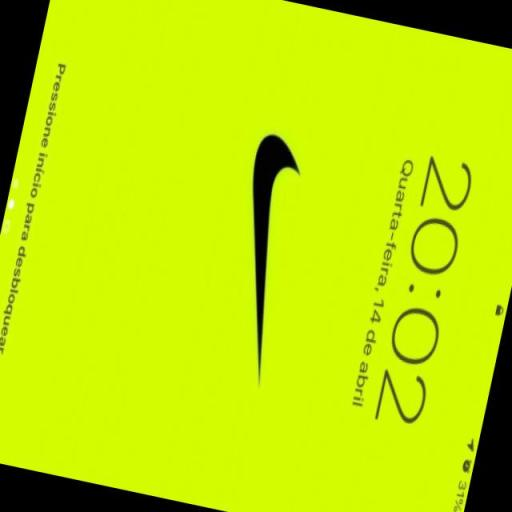Nike: (200, 124, 318, 394)
